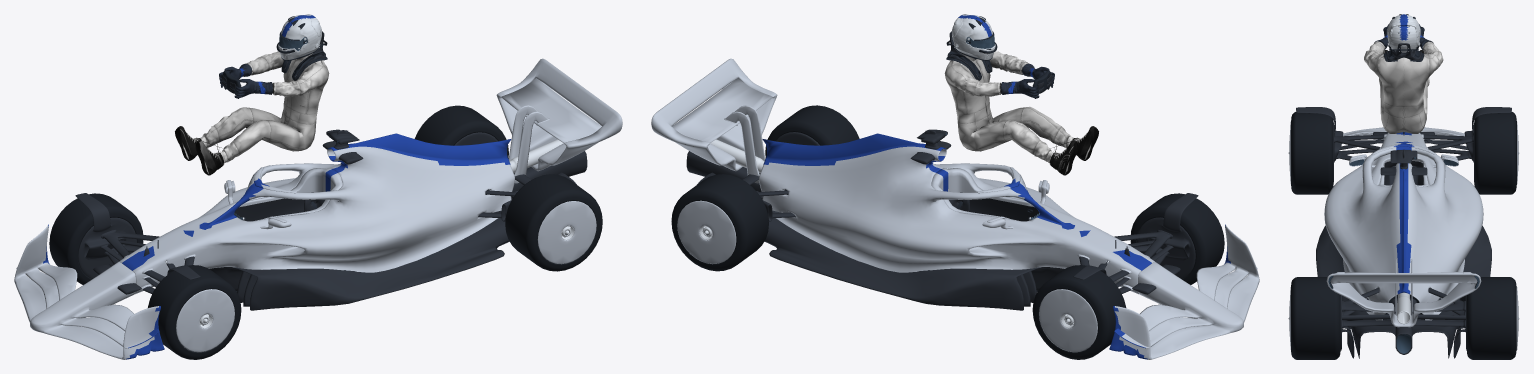
The model's file is car-and-driver.glb.
3 renders of one model, left to right at view 1: azimuth 30°, elevation 25°; view 2: azimuth 150°, elevation 25°; view 3: azimuth 270°, elevation 25°, orthographic. The views are drawn at different scales.
Parts seen in each view (by area): view 1: Racing car, Seated racing driver; view 2: Racing car, Seated racing driver; view 3: Racing car, Seated racing driver.
Boxes of the visible parts, bbox=[...] form: Racing car: bbox=[14, 58, 622, 359]; Seated racing driver: bbox=[175, 14, 329, 175]; Racing car: bbox=[651, 58, 1259, 359]; Seated racing driver: bbox=[944, 14, 1098, 175]; Racing car: bbox=[1288, 107, 1519, 359]; Seated racing driver: bbox=[1364, 14, 1443, 133].
Size of the model in its own units: 5.18 by 2.35 by 2.01.
Materials: 10 (1 with a texture image).
